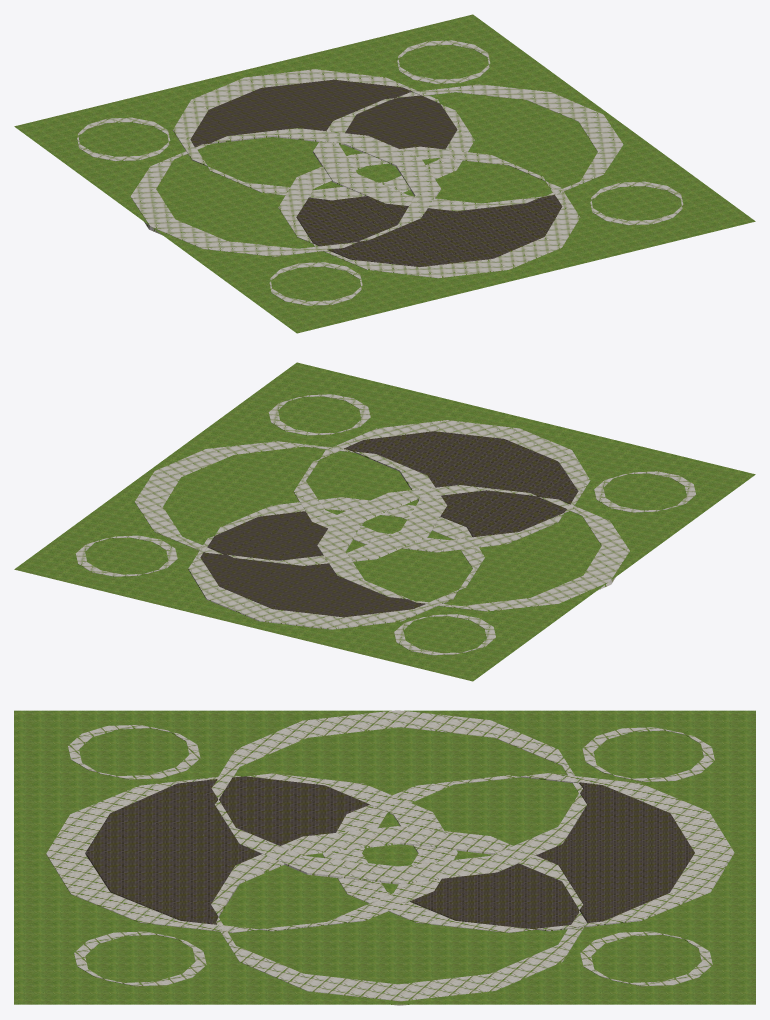
The model's file is groundPlane.DAE.
The picture shows the model from 3 angles, top to bottom: view 1: azimuth 30°, elevation 25°; view 2: azimuth 150°, elevation 25°; view 3: azimuth 270°, elevation 25°; orthographic projection. The views are drawn at different scales.
Parts seen in each view (by area): view 1: groundPlane; view 2: groundPlane; view 3: groundPlane.
Boxes of the visible parts, x1,y1,x2,y2 form: groundPlane: (14,14,755,333); groundPlane: (14,362,755,681); groundPlane: (14,710,755,1005).
Bounding box in the file's own units: 22.51 × 23.96 × 0.1906.
3 materials, 3 textured.
